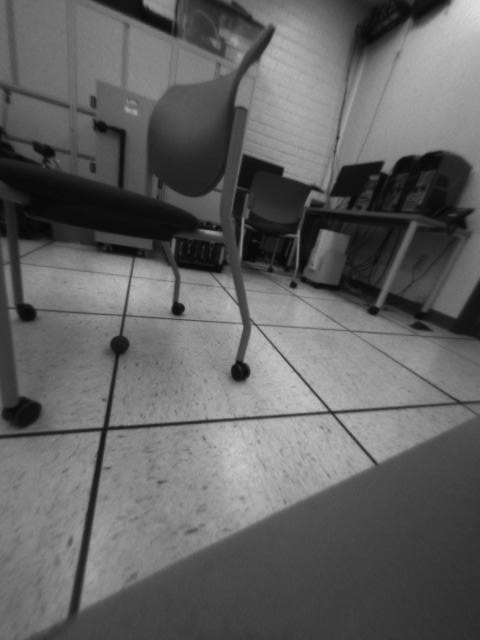dogtoy: (106, 330, 140, 359)
